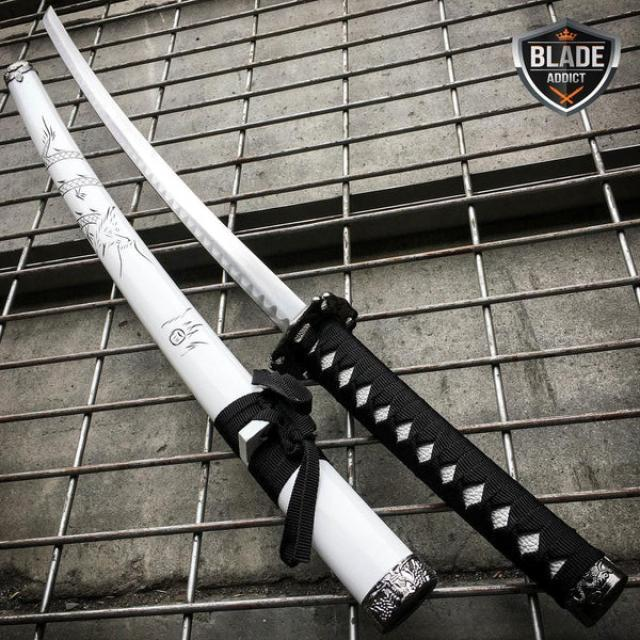katana: (41, 4, 626, 628)
